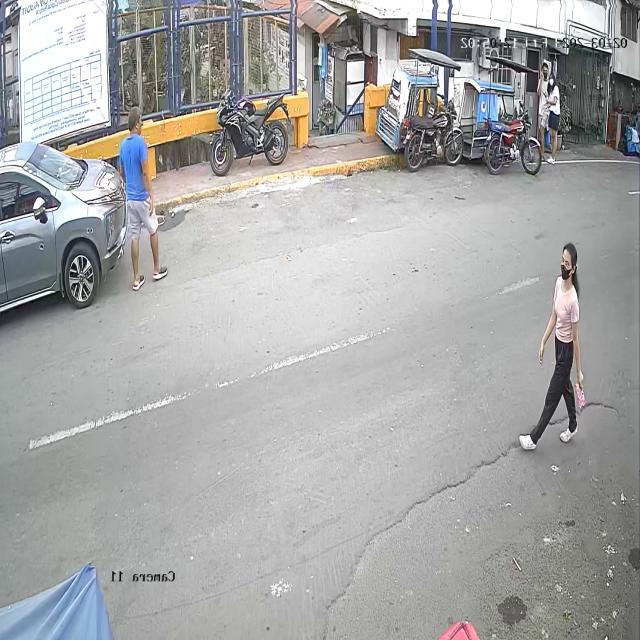human: (520, 243, 586, 450)
trash: (570, 376, 589, 414)
